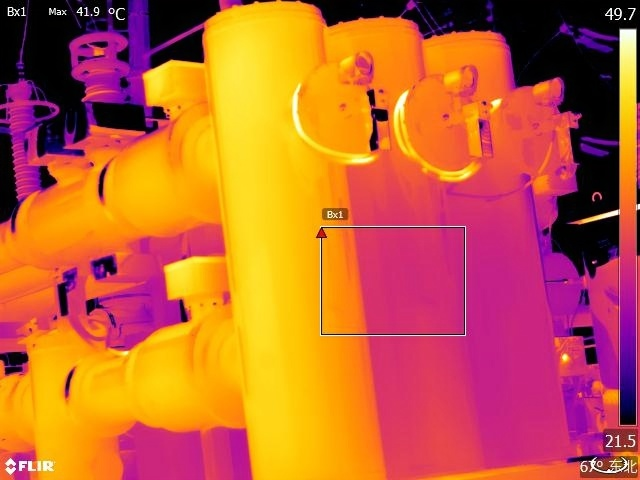lightning arrester: (1, 75, 63, 207)
tube: (69, 25, 139, 123)
